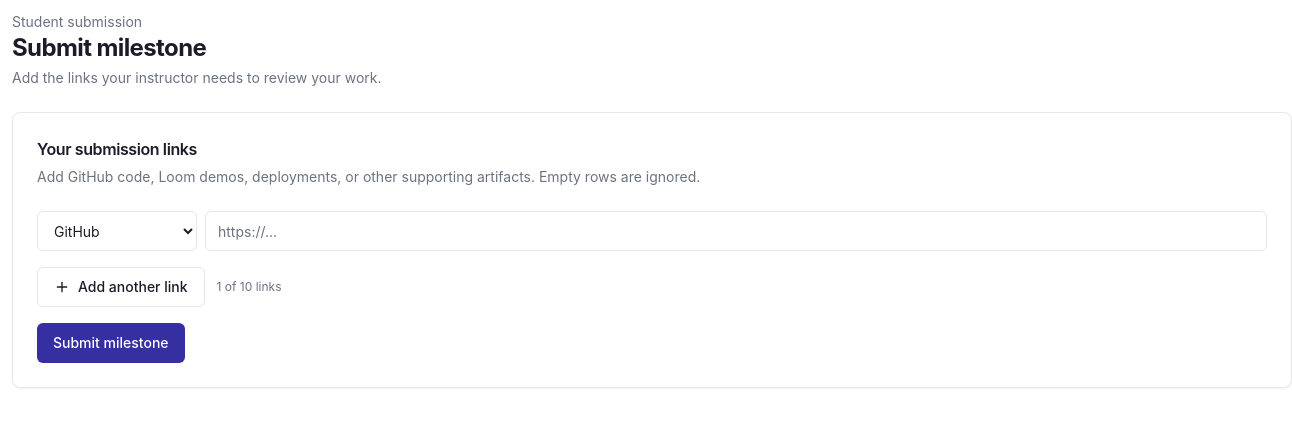
Test: SubmitMilestonePage › rejects an invalid deployment link
Select "Deployment" in the dropdown named "Link 1 type" at (117, 231), box top-left (37, 211), bottom-right (197, 251)
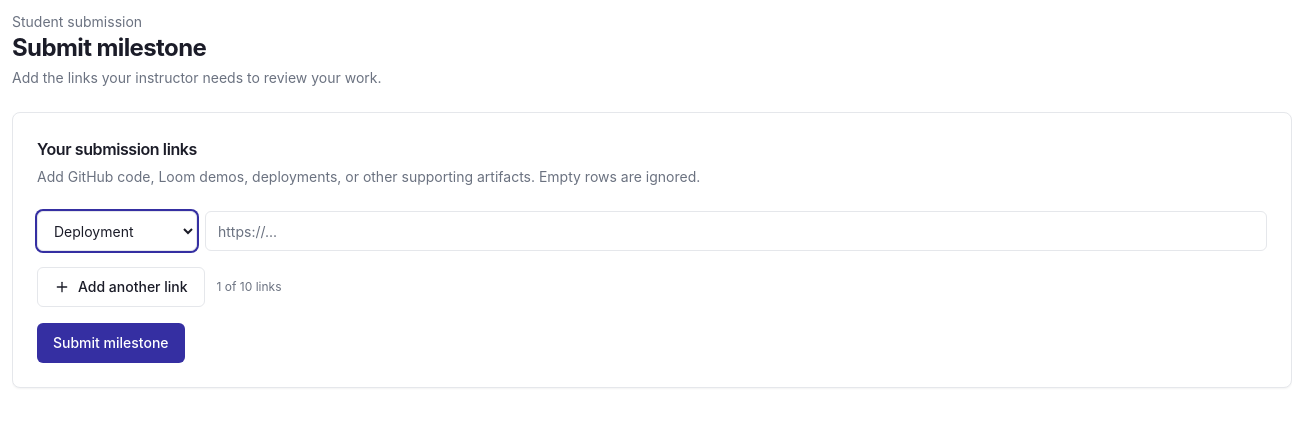
Type "ftp://example.com/app" into the field named "Link 1 URL" at (736, 231), box top-left (205, 211), bottom-right (1267, 251)
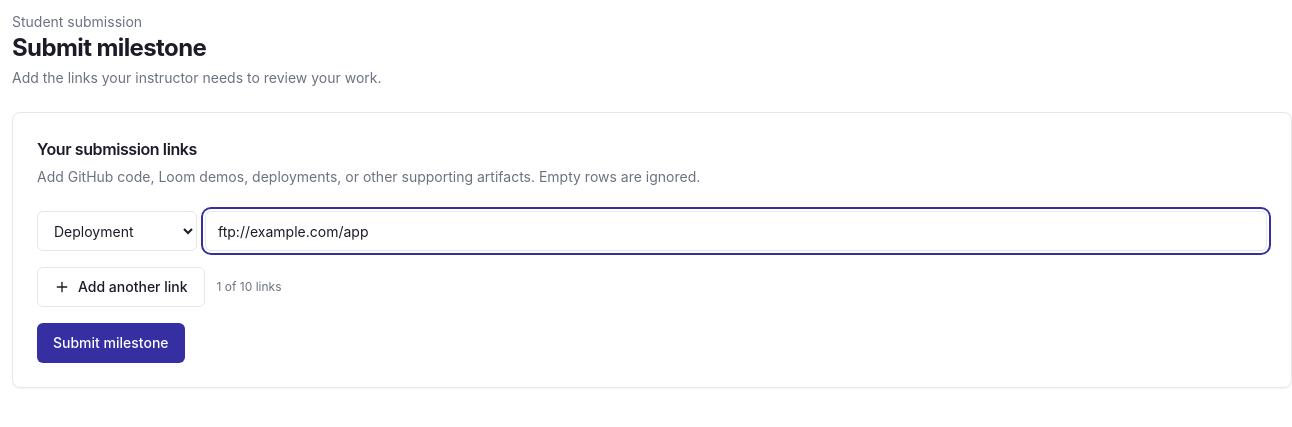
Click the button "Submit milestone" at (111, 343), box top-left (37, 323), bottom-right (185, 363)
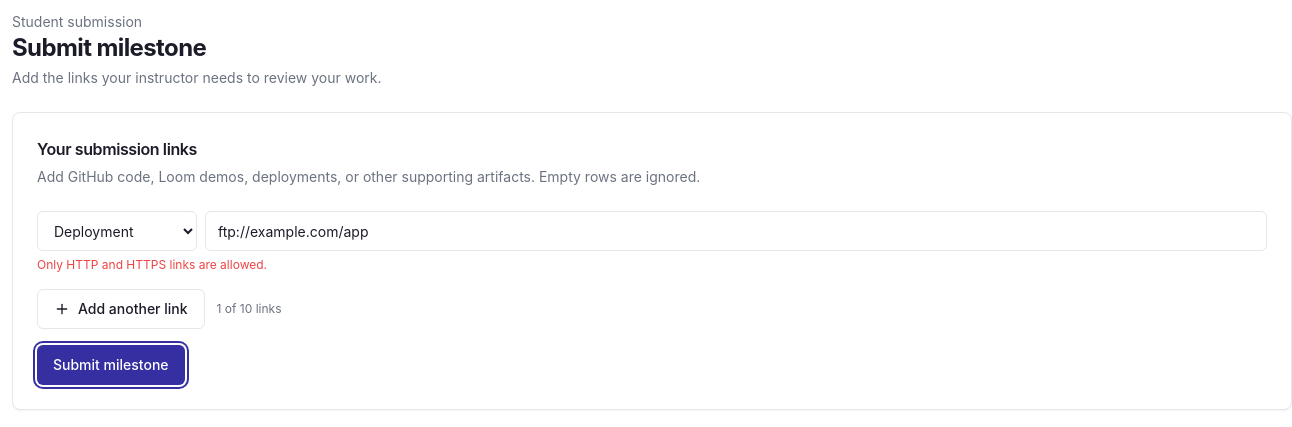
Check: the text "Only HTTP and HTTPS links are allowed." is shown, box top-left (37, 257), bottom-right (267, 272)
